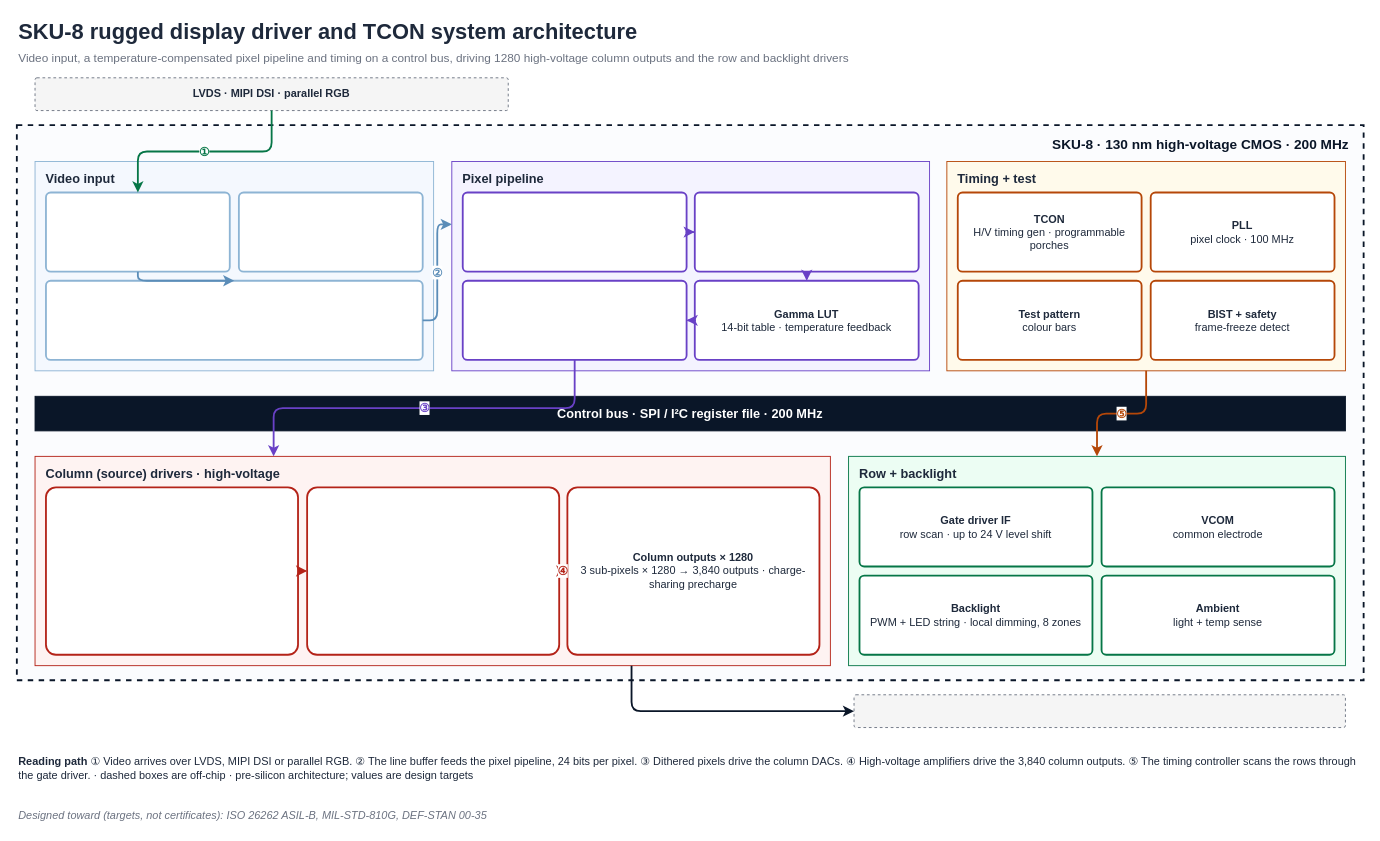
The diagram is 1380 pixels wide and 841 high, and some of its shapes have lost their labels. The shapes that lost their labels are listed below. From the top down, each one's centre as x and y in pixels, then its label:
the point at 137,231: LVDS RX dual link · 655 Mbps per lane · SXGA 1280 × 1024 @ 60 Hz
the point at 330,231: DSI RX four-lane MIPI DSI
the point at 574,231: De-gamma input linearise
the point at 806,231: Colour 3 × 3 matrix + WP
the point at 234,319: Line buffer dual-port SRAM · 4 lines × 1280 × 24 bit
the point at 574,319: Dither temporal + spatial
the point at 171,570: DAC bank 10-bit, 1 per column · resistor-string + buffer
the point at 433,570: Output amps rail-to-rail HV · 0 to 12 V swing, thick oxide
the point at 1099,711: To the panel · source / gate / VCOM / LED
